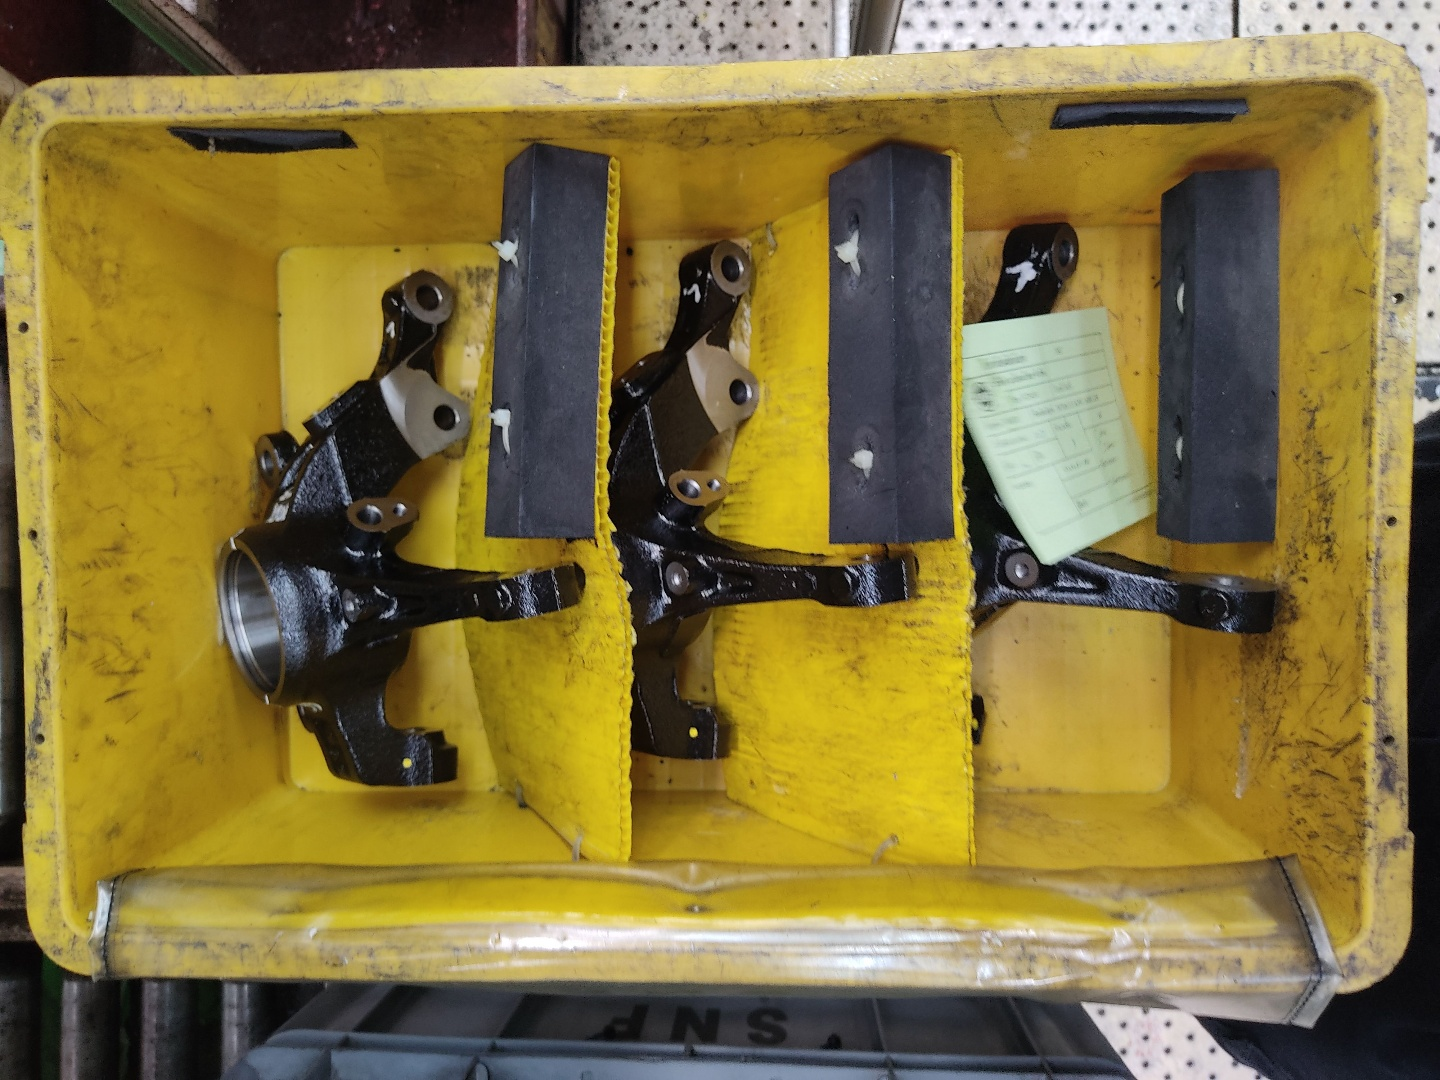abs-lh: (207, 261, 592, 803), (947, 213, 1296, 756), (604, 233, 933, 774)
